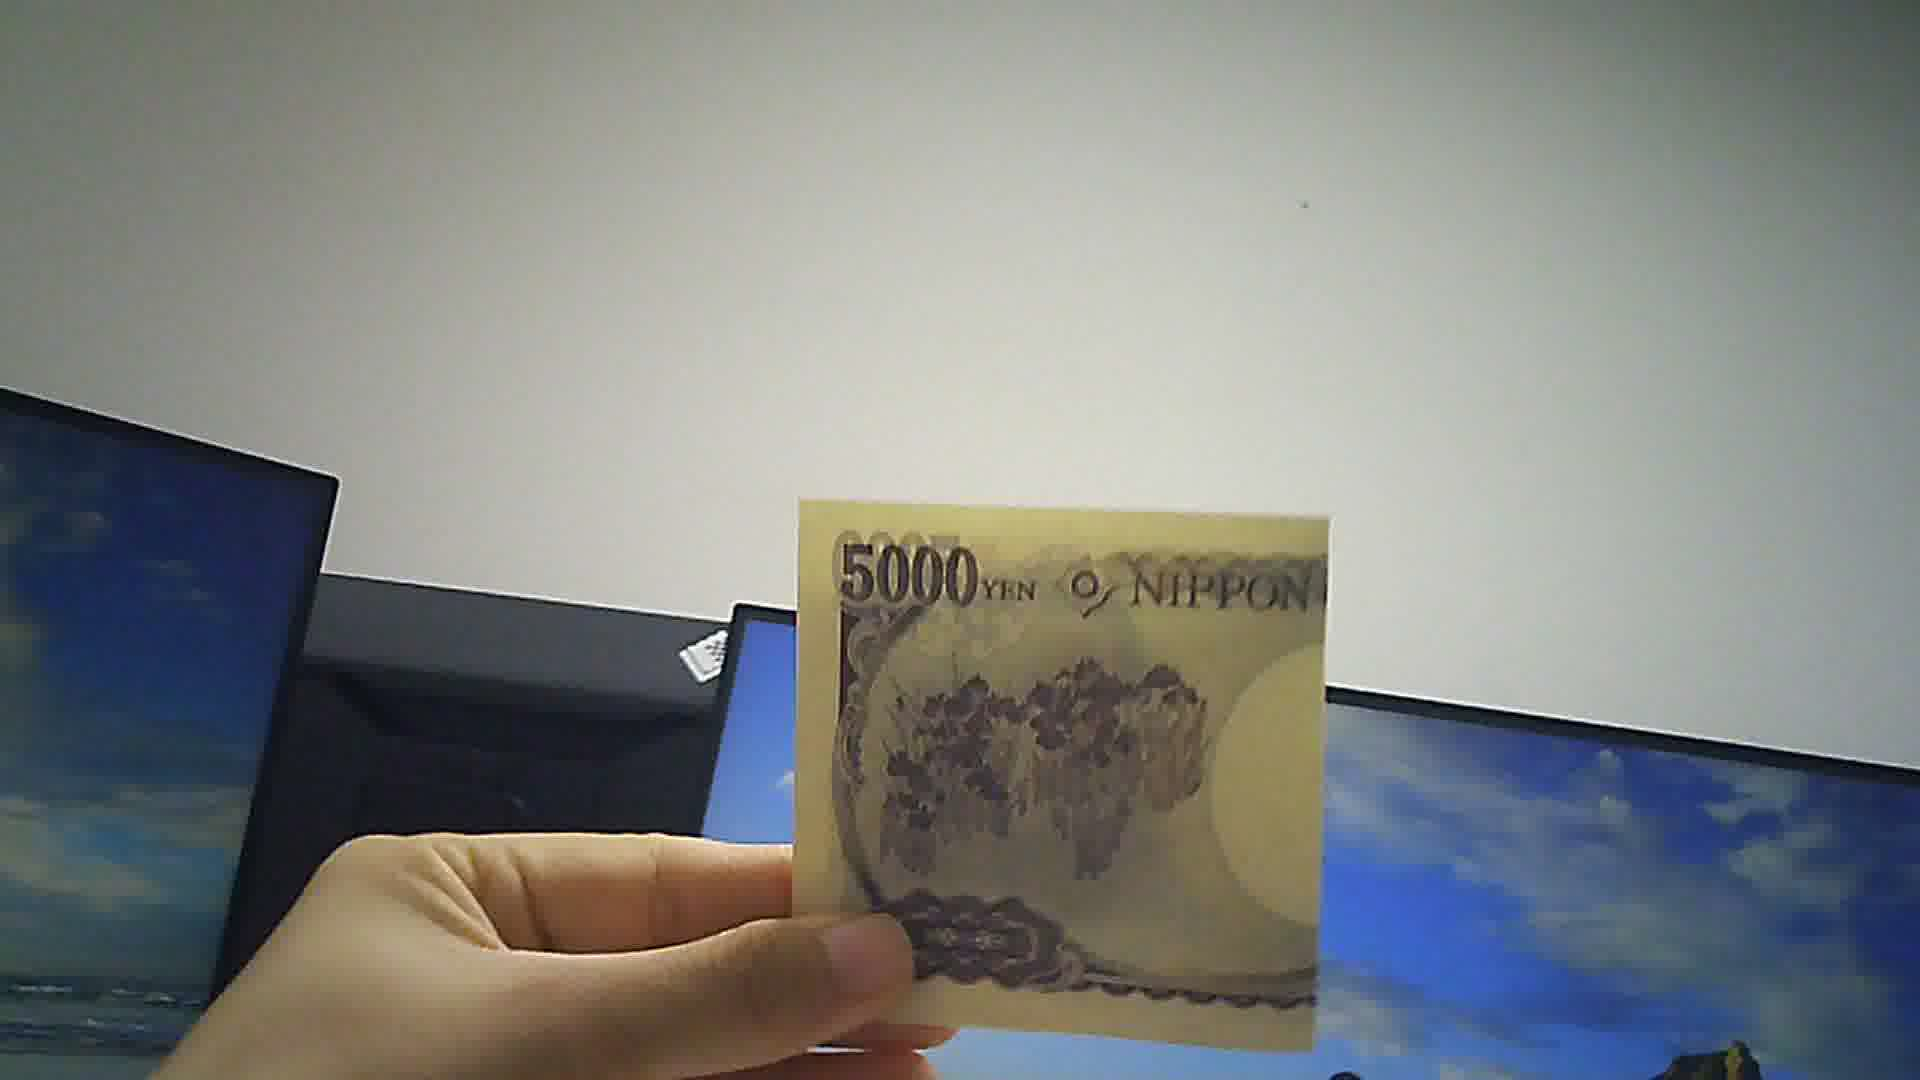5,000 Yen: (786, 491, 1356, 1079)
